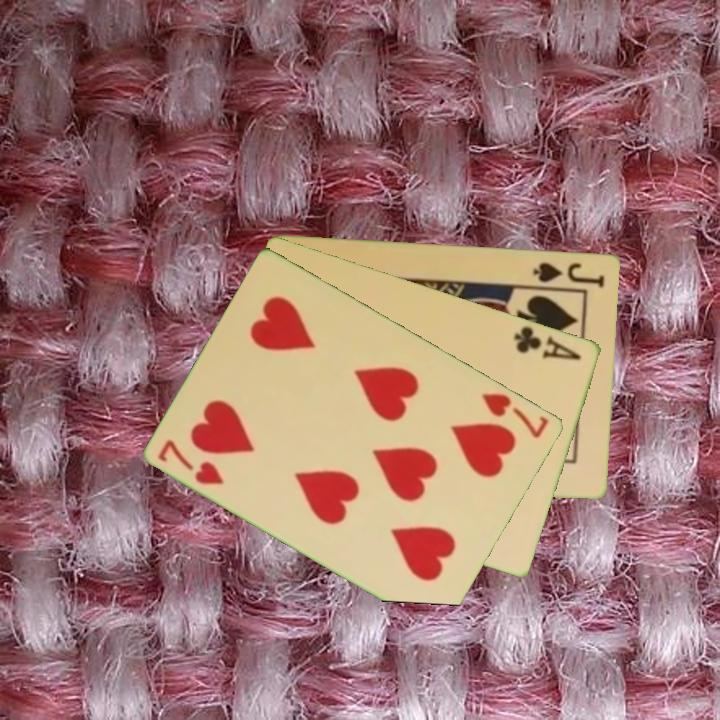7h: (154, 435, 228, 488), (478, 389, 553, 441)
Ac: (511, 322, 584, 363)
Js: (530, 258, 608, 290)
